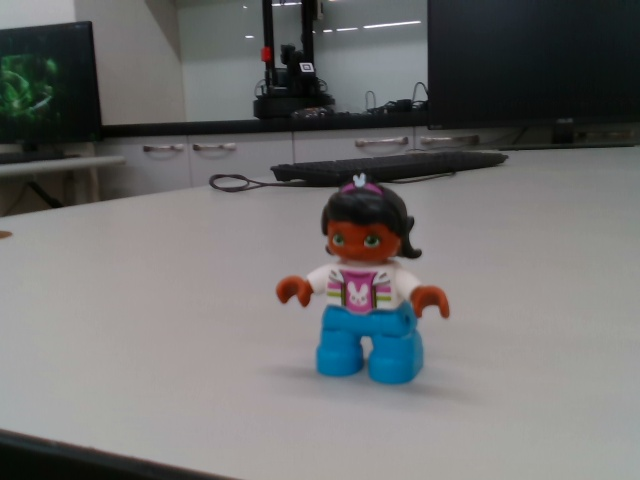people: (276, 169, 451, 387)
